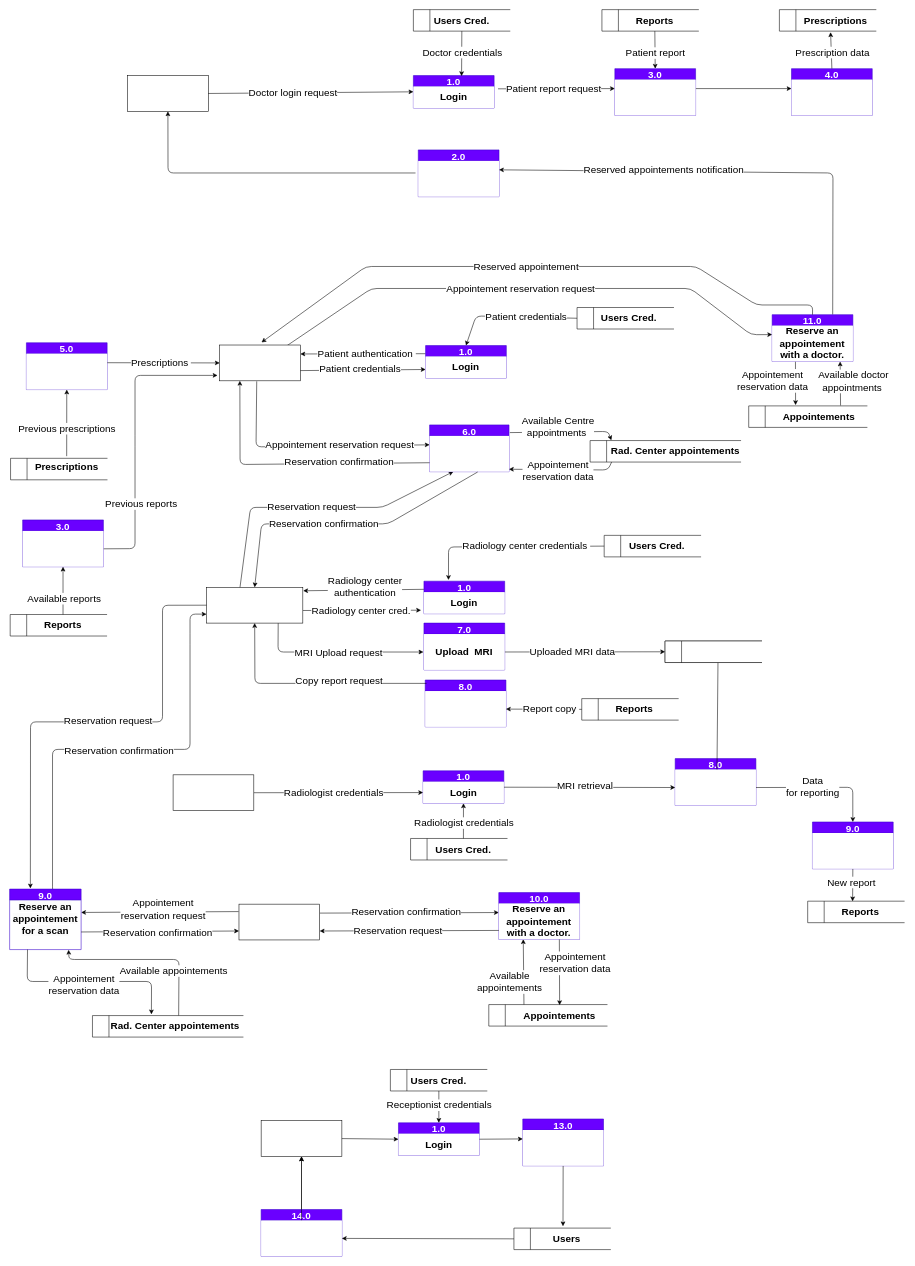
Some shapes in this 915 by 1266 pixel diagram are drawn without their labels. The shapes that lost their labels are listed below. From the top down, each one's box as (x1, y1, x2, y2) in pixels, then its label:
(127, 75, 208, 111): Doctor
(615, 79, 695, 115): View patient report
(791, 79, 872, 115): Diagnose patient
(418, 161, 499, 196): Assigned appointements
(26, 353, 107, 389): View Prescriptions
(219, 344, 300, 381): Patient
(429, 436, 509, 471): Reserve appointement for center
(22, 531, 103, 566): View Reports
(206, 587, 303, 623): Radiology center
(665, 640, 762, 663): Scans
(425, 691, 506, 727): copy Report for radiolory center
(173, 774, 254, 811): Radiologist
(675, 769, 756, 805): View MRI
(812, 833, 893, 869): Write report
(238, 904, 320, 940): Guest
(261, 1120, 342, 1156): Receptionist
(522, 1130, 603, 1166): Register User
(261, 1220, 342, 1256): Registeration confirmation
